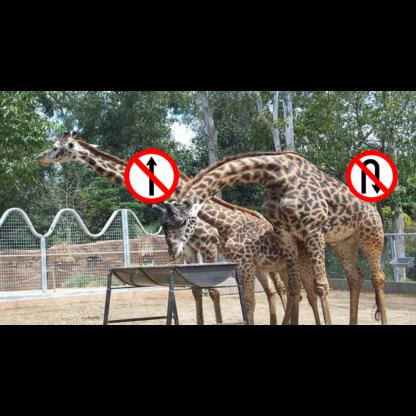R-3: (124, 148, 179, 203)
